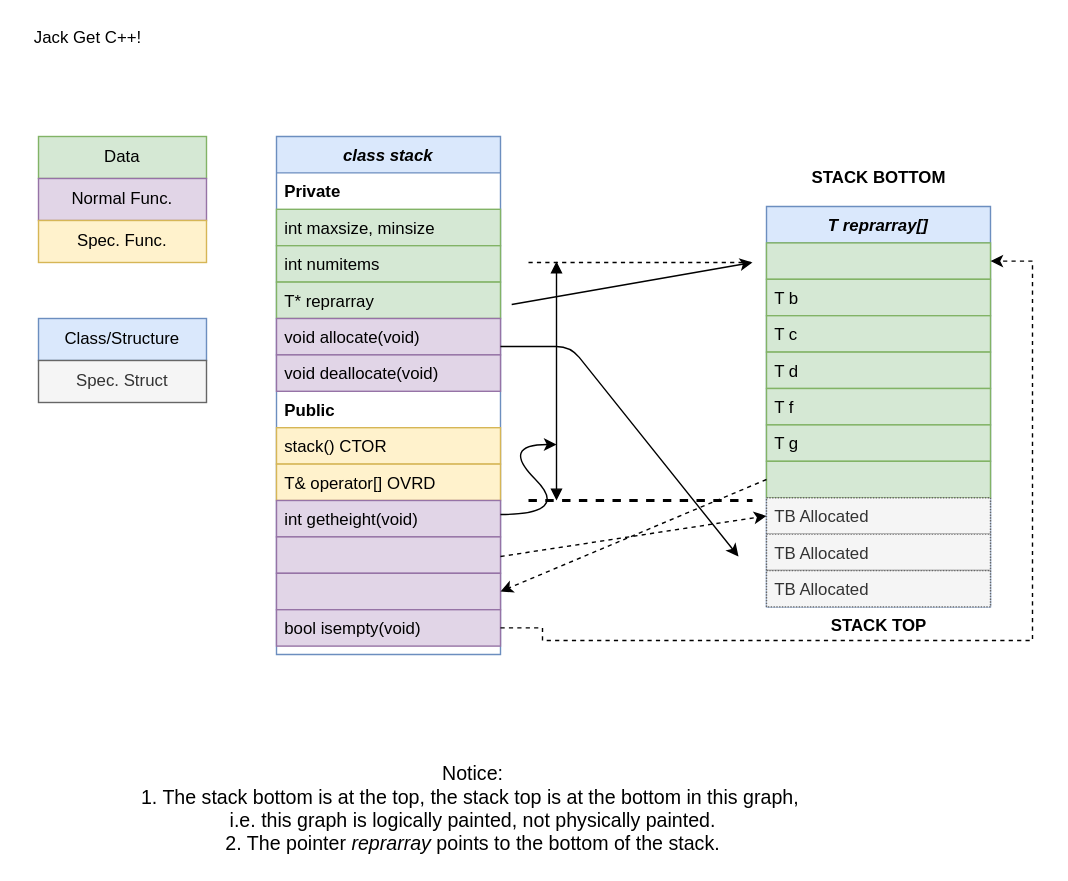
Image size: 1068x881. Some labels were removed from this diagram. The box of each missing label's shape, as (x1, y1, x2, y2) in pixels:
T a (e.g. "KD is smart"): (765, 241, 990, 279)
T h: (765, 460, 990, 498)
T pop(void): (275, 572, 500, 610)
void push(T value): (275, 536, 500, 573)
